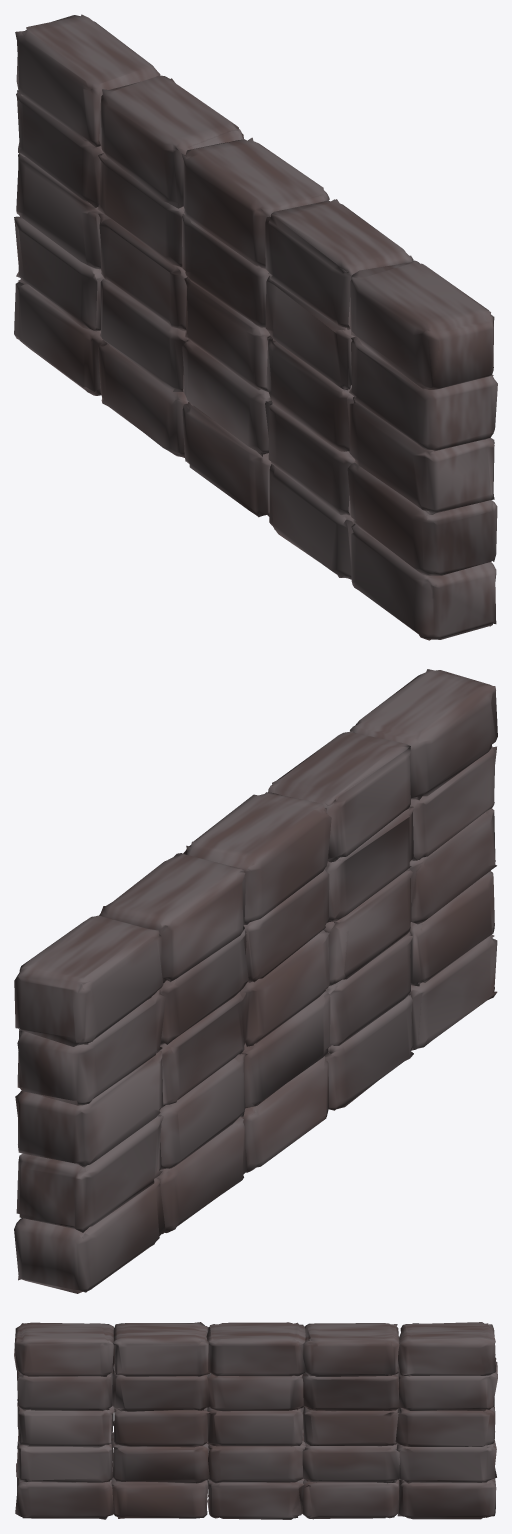
Rendered from stoneWall.fbx.
3 views of the same model, one above another, from view 1: azimuth 30°, elevation 25°; view 2: azimuth 150°, elevation 25°; view 3: azimuth 270°, elevation 25° (orthographic). The views are drawn at different scales.
Parts seen in each view (by area): view 1: stoneWall; view 2: stoneWall; view 3: stoneWall.
Part boxes in pixels (x1=…): stoneWall: x1=14, y1=14, x2=497, y2=640; stoneWall: x1=14, y1=669, x2=497, y2=1293; stoneWall: x1=14, y1=1322, x2=497, y2=1519.
Size of the model in its own units: 74.14 by 284 by 686.
Materials: 1 (1 with a texture image).
